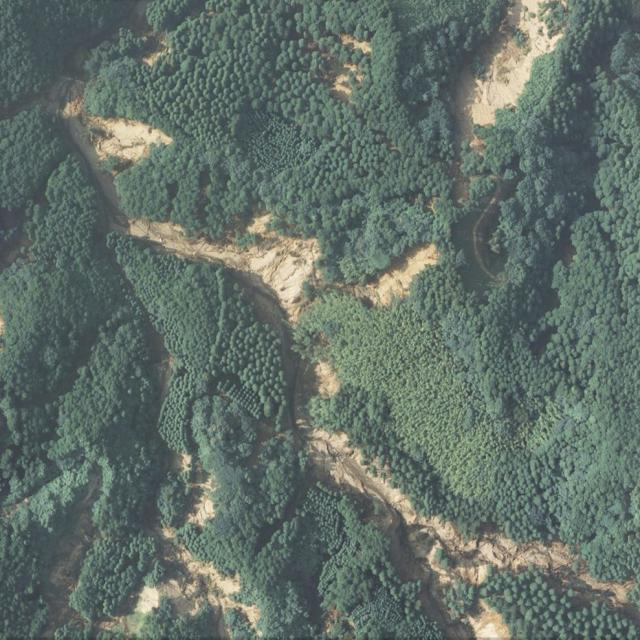landslide: (291, 362, 631, 640), (115, 213, 320, 327), (470, 0, 568, 124), (78, 112, 168, 169), (359, 244, 437, 305)
